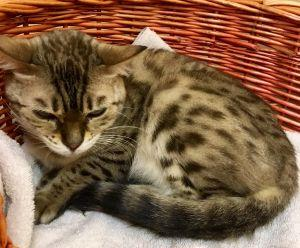bengal: (1, 25, 150, 162)
